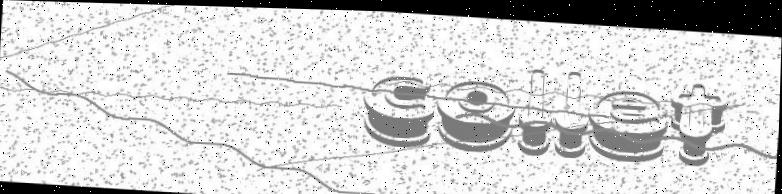c: (360, 69, 439, 147)
e: (589, 84, 669, 161)
l: (551, 65, 591, 156), (517, 63, 556, 155)
o: (434, 74, 519, 152)
t: (667, 77, 728, 164)
